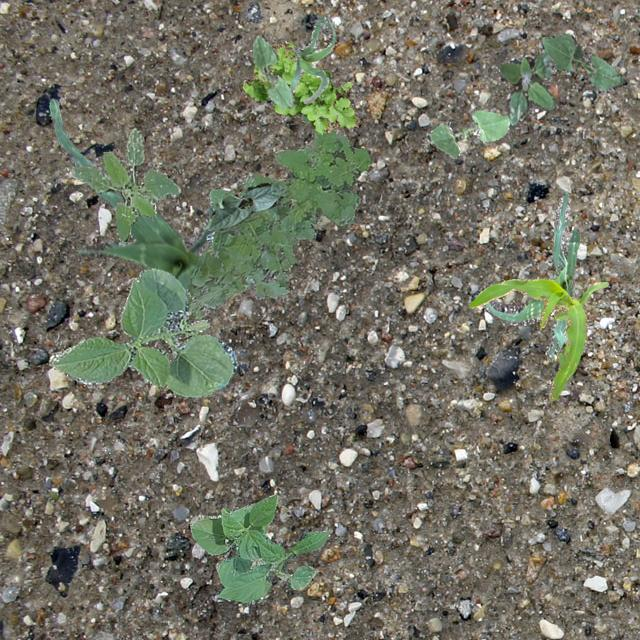crop: (48, 99, 214, 308), (48, 268, 236, 396), (468, 278, 608, 400), (481, 190, 578, 360), (190, 492, 328, 602), (538, 33, 622, 90), (288, 13, 334, 102), (426, 110, 509, 158), (204, 182, 284, 230), (250, 34, 294, 108)
weed: (186, 128, 370, 318), (68, 126, 180, 242), (242, 43, 358, 134), (496, 52, 554, 124), (205, 230, 213, 242), (300, 112, 310, 121)
